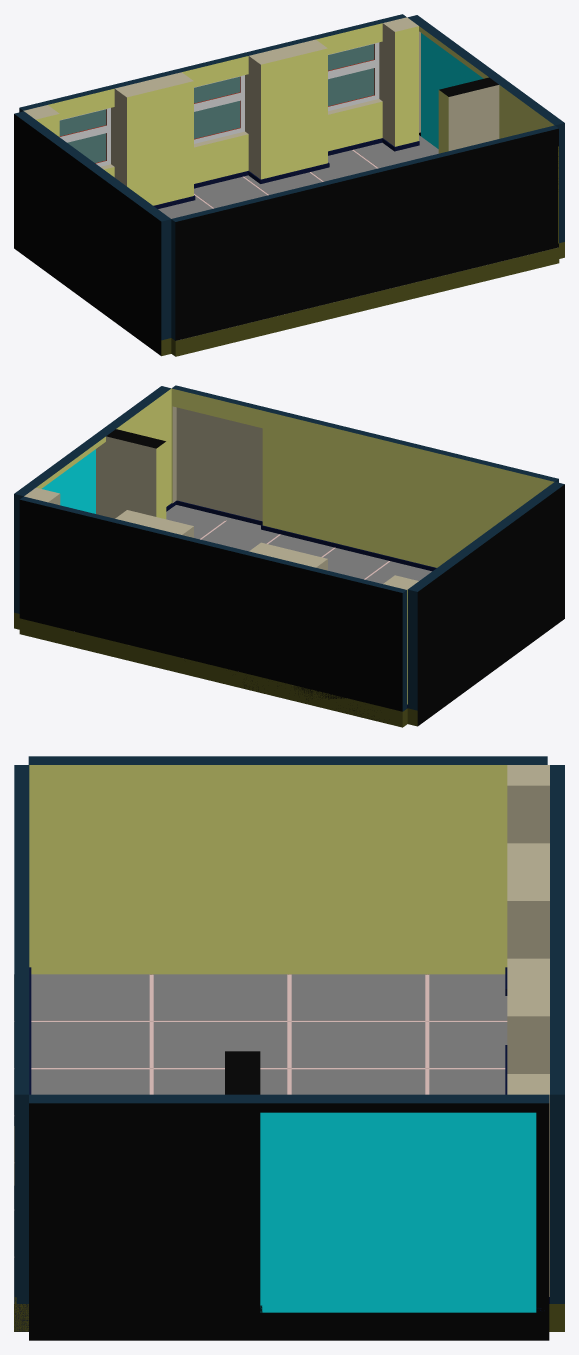
The model's file is changingRoom.fbx.
3 views of the same model, one above another, from view 1: azimuth 30°, elevation 25°; view 2: azimuth 150°, elevation 25°; view 3: azimuth 270°, elevation 25° (orthographic). The views are drawn at different scales.
Parts seen in each view (by area): view 1: wallE, wallW, wallS, floor, wallN, doorN; view 2: wallW, wallE, wallS, floor, wallN, doorN; view 3: wallS, wallN, floor, doorN, wallW, wallE.
Boxes of the visible parts, x1=… form: wallE: x1=171, y1=125, x2=558, y2=353; wallW: x1=19, y1=14, x2=419, y2=208; wallS: x1=14, y1=111, x2=171, y2=356; floor: x1=158, y1=142, x2=559, y2=356; wallN: x1=407, y1=15, x2=564, y2=258; doorN: x1=421, y1=33, x2=483, y2=148; wallW: x1=19, y1=487, x2=418, y2=727; wallE: x1=171, y1=385, x2=558, y2=571; wallS: x1=407, y1=482, x2=564, y2=726; floor: x1=19, y1=505, x2=431, y2=727; wallN: x1=14, y1=386, x2=172, y2=629; doorN: x1=42, y1=449, x2=95, y2=513; wallS: x1=28, y1=756, x2=547, y2=974; wallN: x1=29, y1=1051, x2=549, y2=1340; floor: x1=14, y1=974, x2=564, y2=1331; doorN: x1=260, y1=1112, x2=536, y2=1312; wallW: x1=505, y1=765, x2=564, y2=1331; wallE: x1=14, y1=765, x2=31, y2=1331.
Size of the model in its own units: 800 by 255 by 537.
